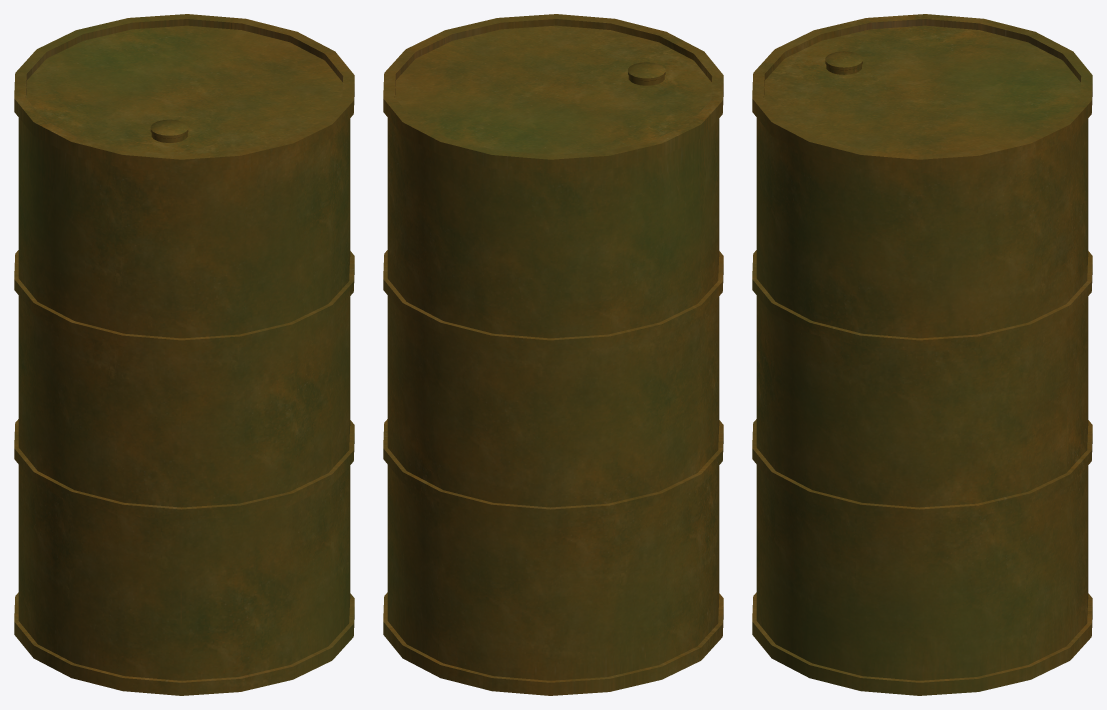
File: barrel02_DONE.fbx
3 views of the same model, side by side, from view 1: azimuth 30°, elevation 25°; view 2: azimuth 150°, elevation 25°; view 3: azimuth 270°, elevation 25° (orthographic).
Visible parts, largest first — view 1: barrels_01:Barrel_01; view 2: barrels_01:Barrel_01; view 3: barrels_01:Barrel_01.
Part boxes in pixels (x1,y1,x2,y2): barrels_01:Barrel_01: (14, 14, 354, 695); barrels_01:Barrel_01: (383, 14, 723, 695); barrels_01:Barrel_01: (752, 14, 1092, 695).
Bounding box in the file's own units: 61.17 × 105 × 60.42.
